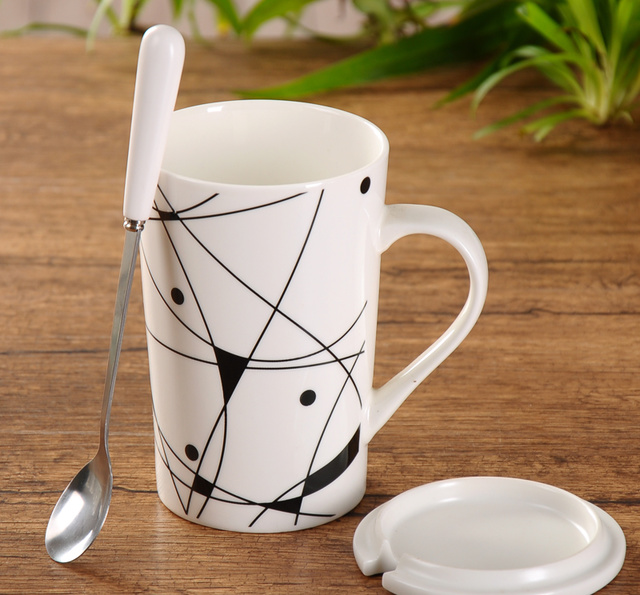cup: (127, 98, 490, 535)
